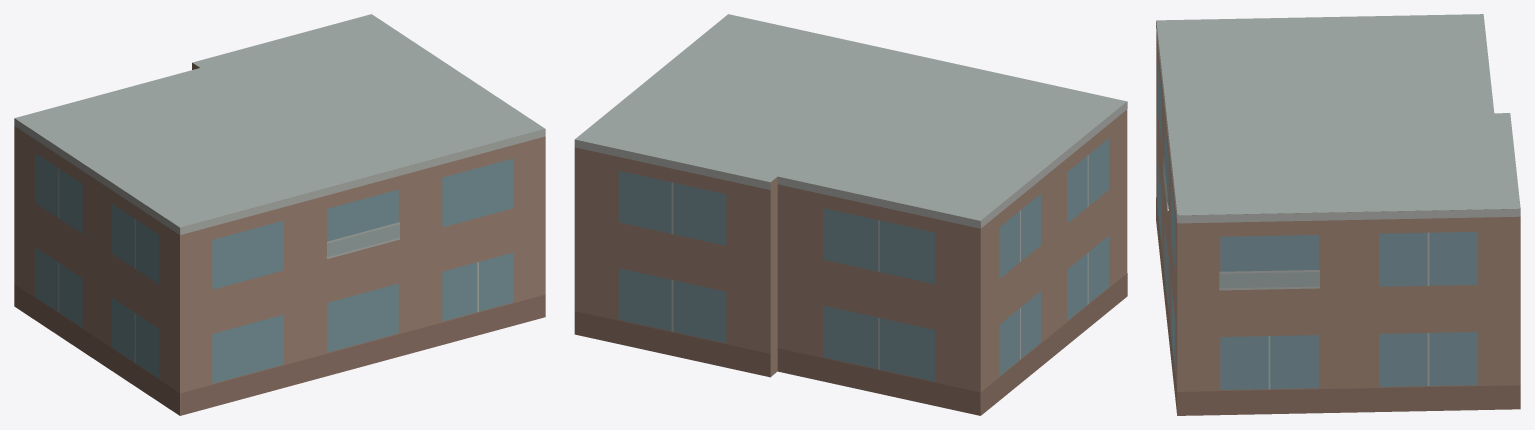
The model's file is survey-upis-32717329.glb.
3 renders of one model, left to right at view 1: azimuth 30°, elevation 25°; view 2: azimuth 150°, elevation 25°; view 3: azimuth 270°, elevation 25°, orthographic. The views are drawn at different scales.
Visible parts, largest first — view 1: survey-upis-32717329.tmp; view 2: survey-upis-32717329.tmp; view 3: survey-upis-32717329.tmp.
Part boxes in pixels (x1,y1,x2,y2): survey-upis-32717329.tmp: [14, 14, 545, 415]; survey-upis-32717329.tmp: [574, 14, 1127, 415]; survey-upis-32717329.tmp: [1156, 14, 1520, 415].
Size of the model in its own units: 13.15 by 6.1 by 10.06.
